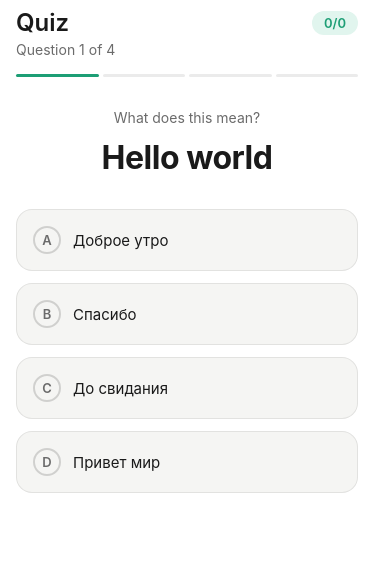
Test: QuizScreen — answering › does not increment score for wrong answer
Step 1. Click the text "Доброе утро" → [121, 240], box [73,230,168,250]
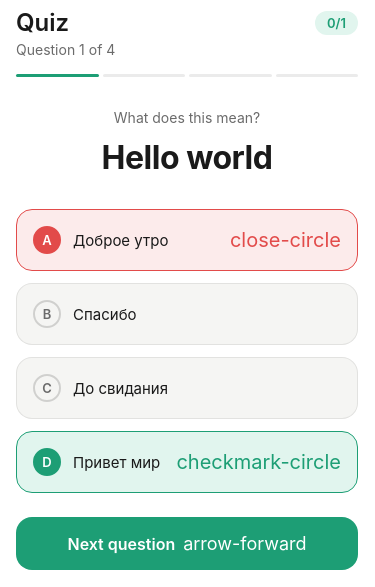
Check: the text "0/1" is shown, box [327,14,346,30]
